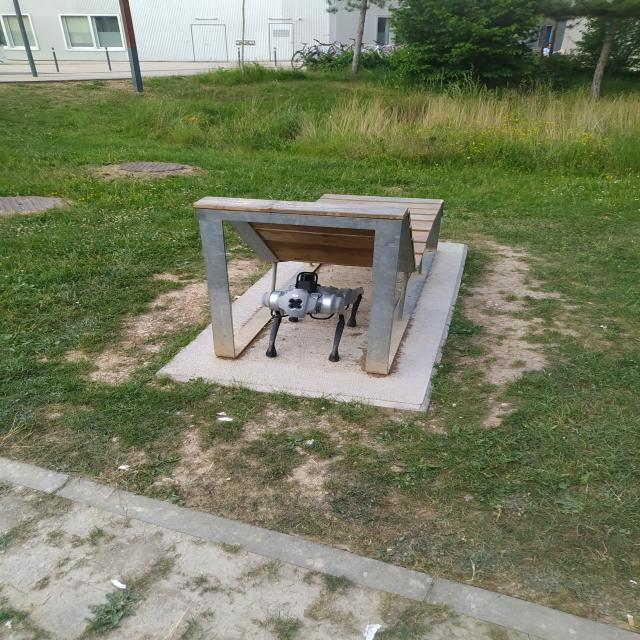unitree-go1-robot: (252, 264, 384, 374)
